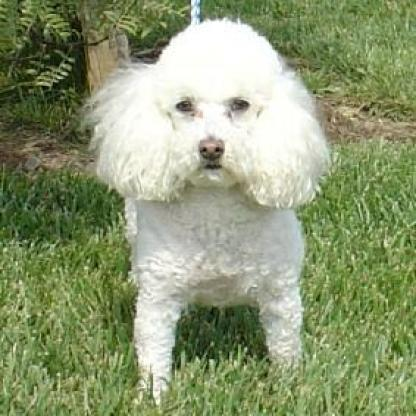miniature_poodle: (78, 14, 329, 403)
